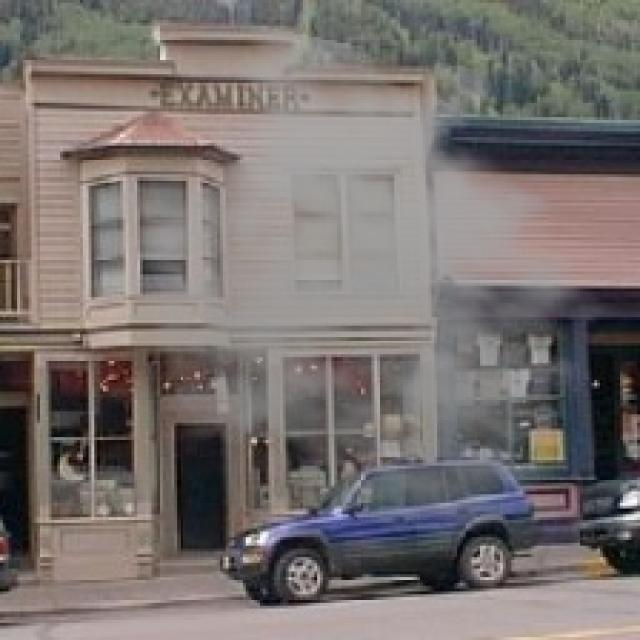smoke: (109, 23, 634, 540)
